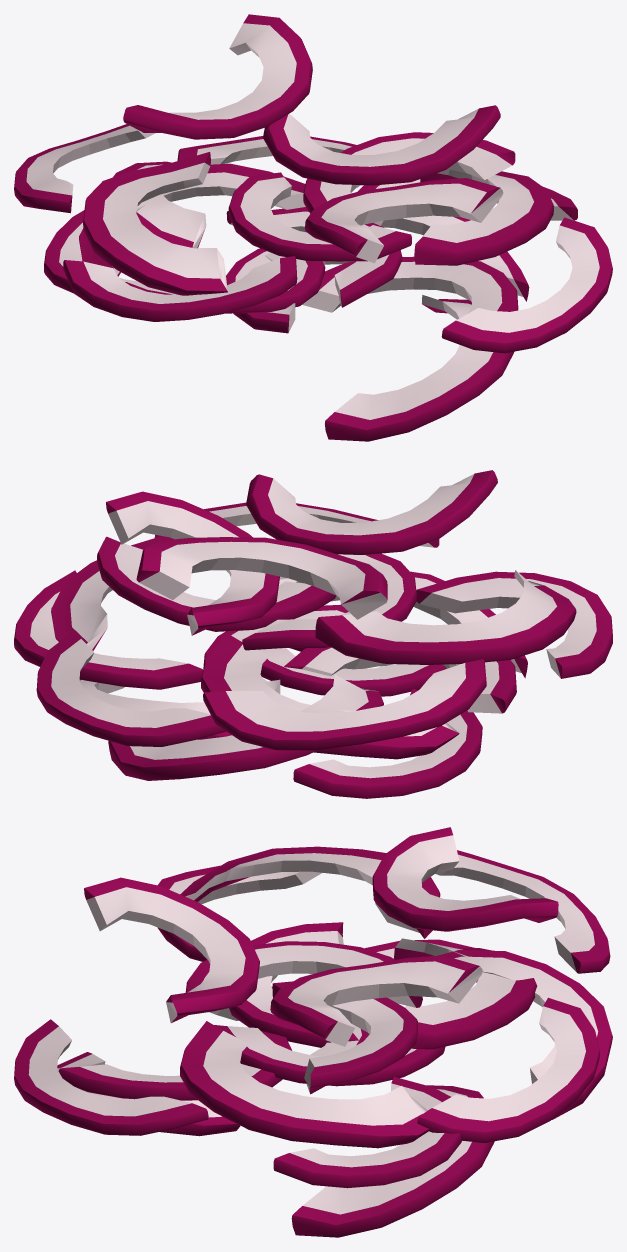
File: pileOnions.glb
The picture shows the model from 3 angles, top to bottom: view 1: azimuth 30°, elevation 25°; view 2: azimuth 150°, elevation 25°; view 3: azimuth 270°, elevation 25°; orthographic projection. The views are drawn at different scales.
Visible parts, largest first — view 1: polySurface214 (×3), polySurface210 (×3), polySurface208 (×3), polySurface215 (×3), polySurface209 (×3), polySurface211 (×3), polySurface213 (×3); view 2: polySurface214 (×3), polySurface208 (×3), polySurface210 (×3), polySurface213 (×3), polySurface215 (×3), polySurface209 (×2), polySurface211 (×3); view 3: polySurface214 (×3), polySurface210 (×3), polySurface208 (×3), polySurface215 (×3), polySurface209 (×3), polySurface213 (×2), polySurface211 (×3).
Boxes of the visible parts, x1,y1,x2,y2 form: polySurface214 (×3): [123, 14, 503, 263]; polySurface210 (×3): [79, 152, 554, 295]; polySurface208 (×3): [14, 124, 612, 353]; polySurface215 (×3): [113, 161, 529, 441]; polySurface209 (×3): [125, 132, 518, 313]; polySurface211 (×3): [226, 172, 411, 333]; polySurface213 (×3): [44, 179, 577, 321]; polySurface214 (×3): [106, 470, 497, 635]; polySurface208 (×3): [36, 502, 486, 750]; polySurface210 (×3): [51, 536, 576, 759]; polySurface213 (×3): [14, 570, 612, 798]; polySurface215 (×3): [79, 571, 527, 780]; polySurface209 (×2): [96, 536, 516, 713]; polySurface211 (×3): [203, 553, 446, 696]; polySurface214 (×3): [84, 827, 558, 1046]; polySurface210 (×3): [180, 846, 537, 1148]; polySurface208 (×3): [14, 850, 610, 1142]; polySurface215 (×3): [57, 950, 612, 1237]; polySurface209 (×3): [58, 922, 417, 1100]; polySurface213 (×2): [157, 865, 461, 1188]; polySurface211 (×3): [185, 941, 445, 1094].
Bounding box in the file's own units: 0.0268 × 0.0121 × 0.0256.
